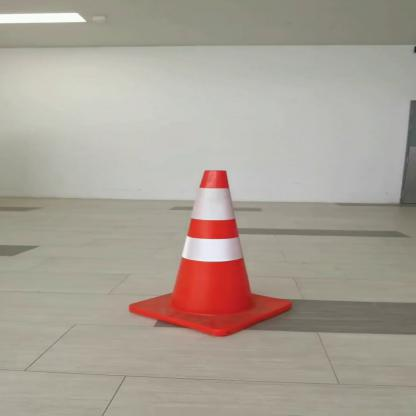cone: (116, 163, 300, 339)
